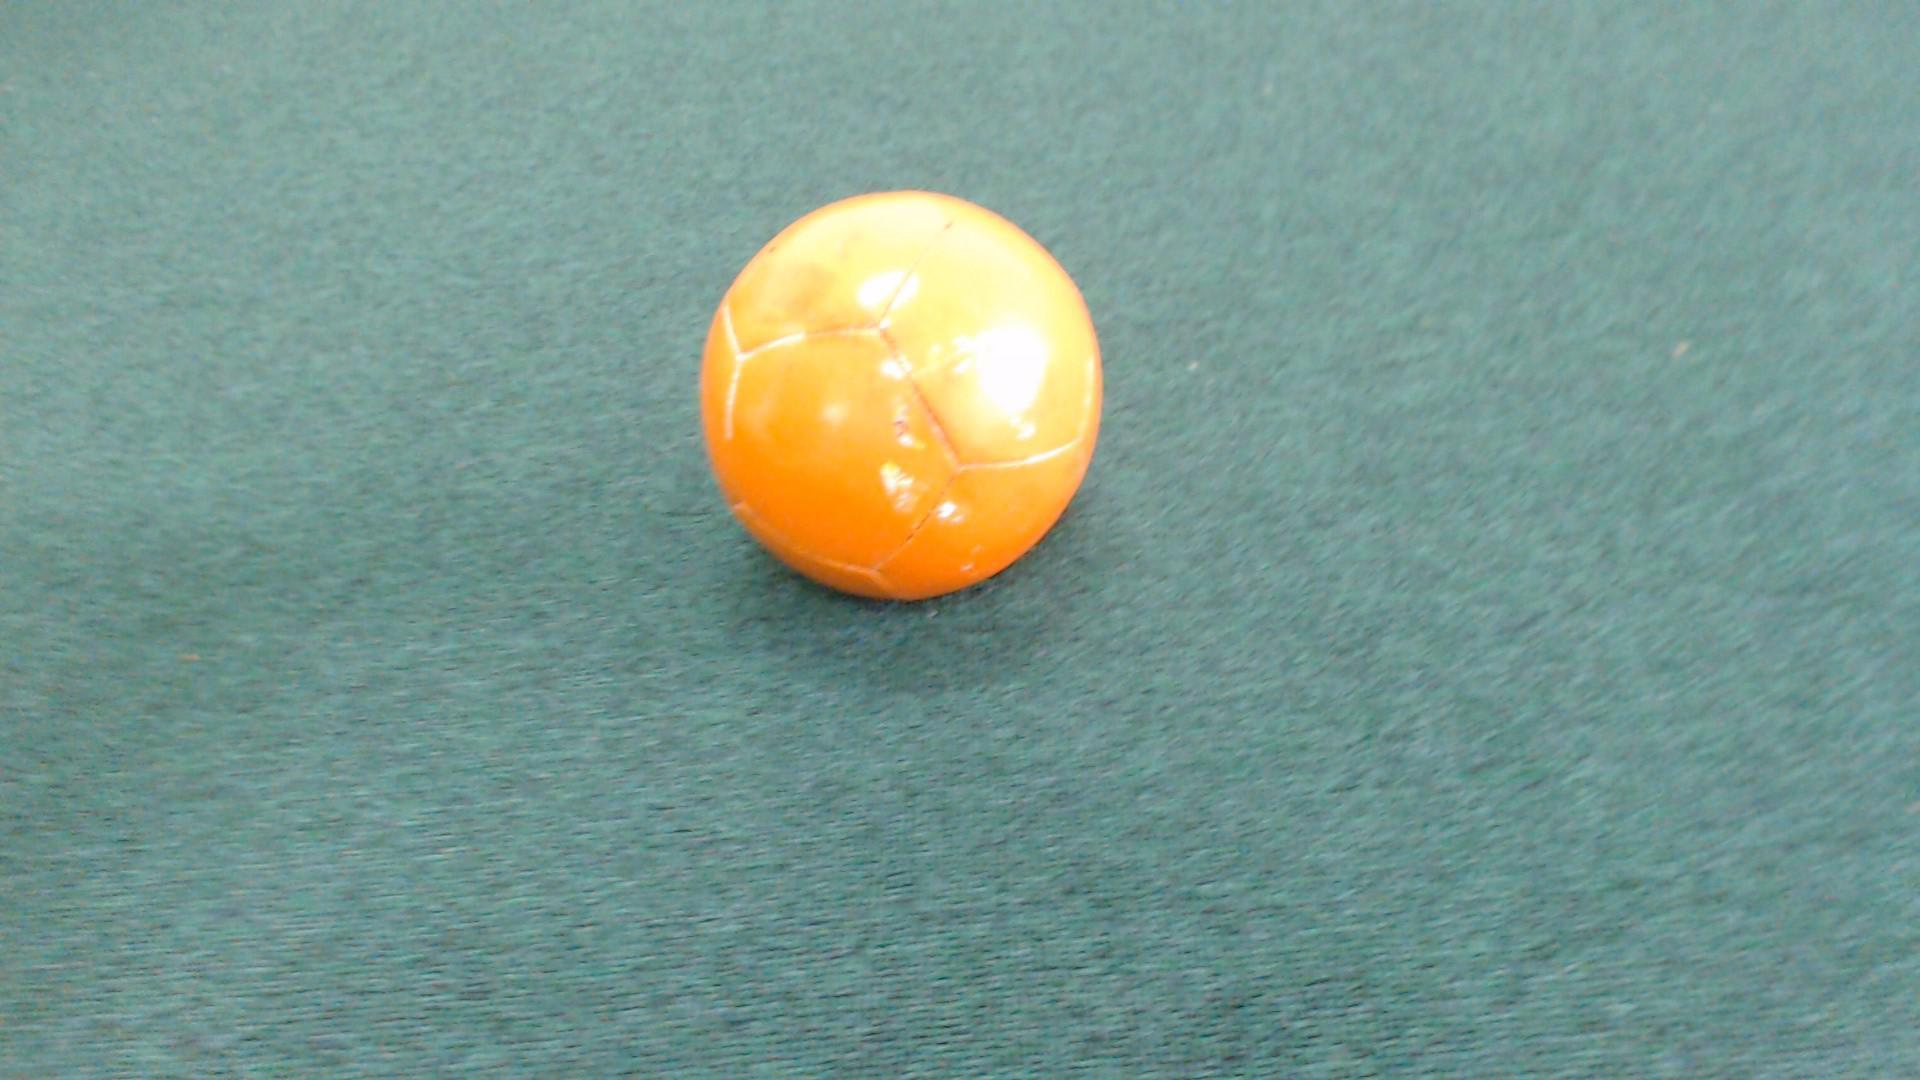bola: (683, 174, 1109, 620)
